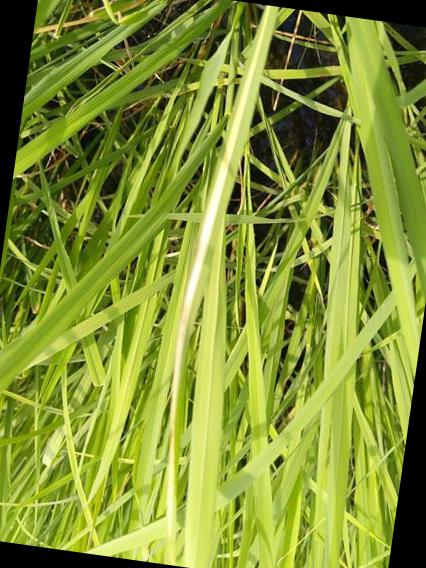Leaf Blight: (166, 5, 280, 566)
